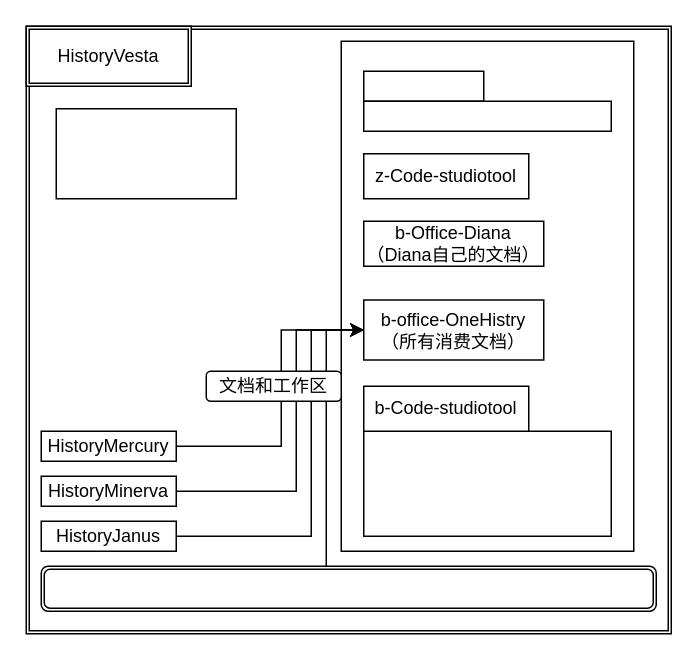
This 698x660 diagram has some shape labels left out. Each missing label, with the centre of its shape:
HistoryDiana: the point at 423,85
HistoryVulcan: the point at 348,588
永久作为ai工作区的开始: the point at 486,115
这里可以放开发工具比如统一的发布流程（不再各自维护）所有项目可用代码操作对齐的部分: the point at 486,483
非Diana管理文档/快捷工具的编号分支不再纳入ai决策过程: the point at 145,153
